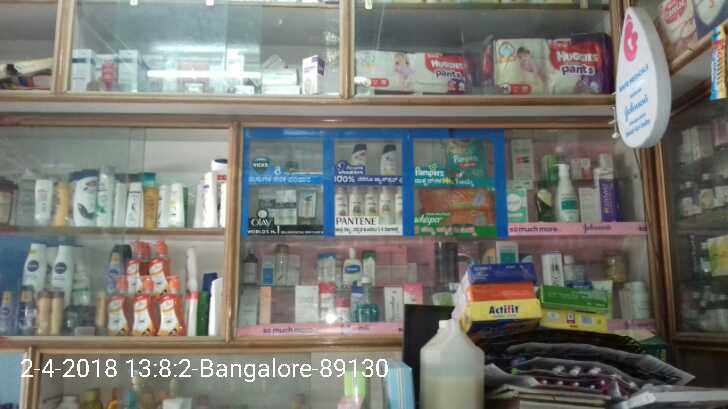vicks: (284, 159, 301, 172)
